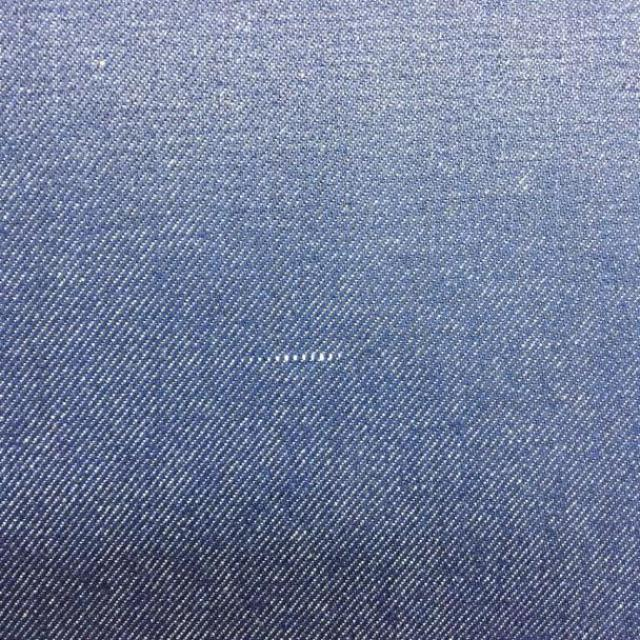Knot: (237, 351, 343, 366)
